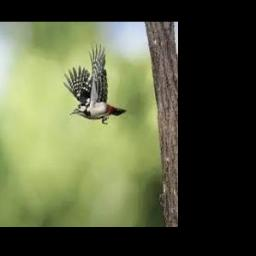Woodpecker: (63, 41, 126, 124)
